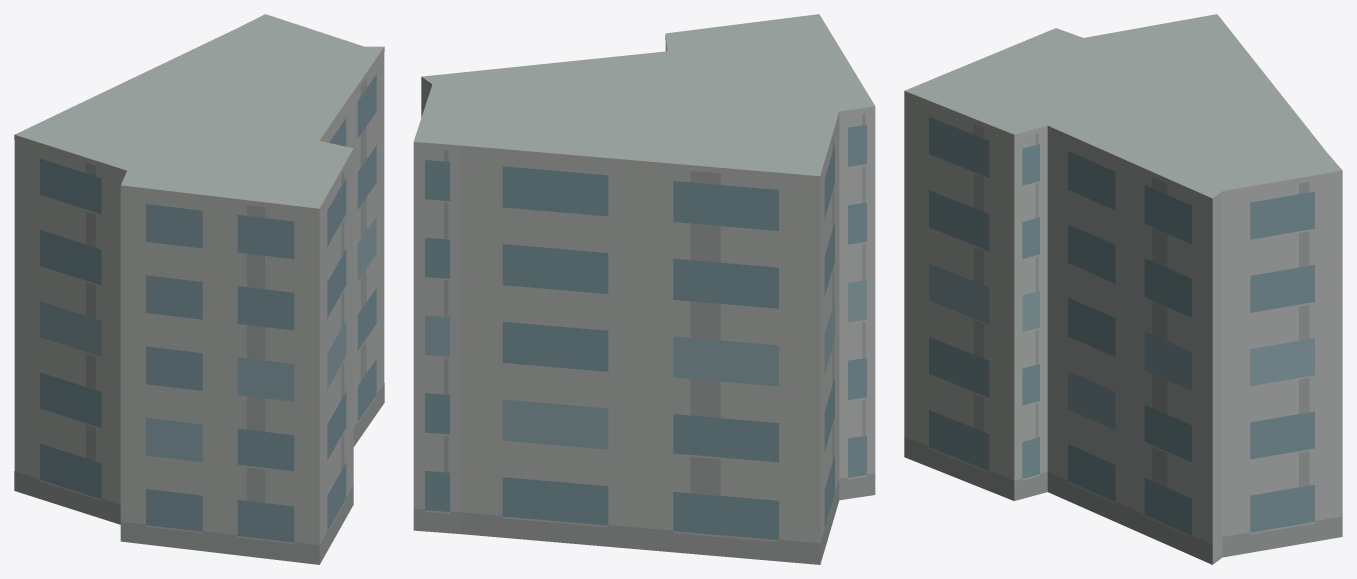
File: survey-upis-32871129.glb
3 views of the same model, side by side, from view 1: azimuth 30°, elevation 25°; view 2: azimuth 150°, elevation 25°; view 3: azimuth 270°, elevation 25° (orthographic). The views are drawn at different scales.
Visible parts, largest first — view 1: survey-upis-32871129.tmp; view 2: survey-upis-32871129.tmp; view 3: survey-upis-32871129.tmp.
Part boxes in pixels (left/top/right/bottom): survey-upis-32871129.tmp: left=14, top=14, right=384, bottom=564; survey-upis-32871129.tmp: left=413, top=14, right=875, bottom=564; survey-upis-32871129.tmp: left=904, top=14, right=1342, bottom=564.
Bounding box in the file's own units: 18.05 × 16.7 × 18.12.
